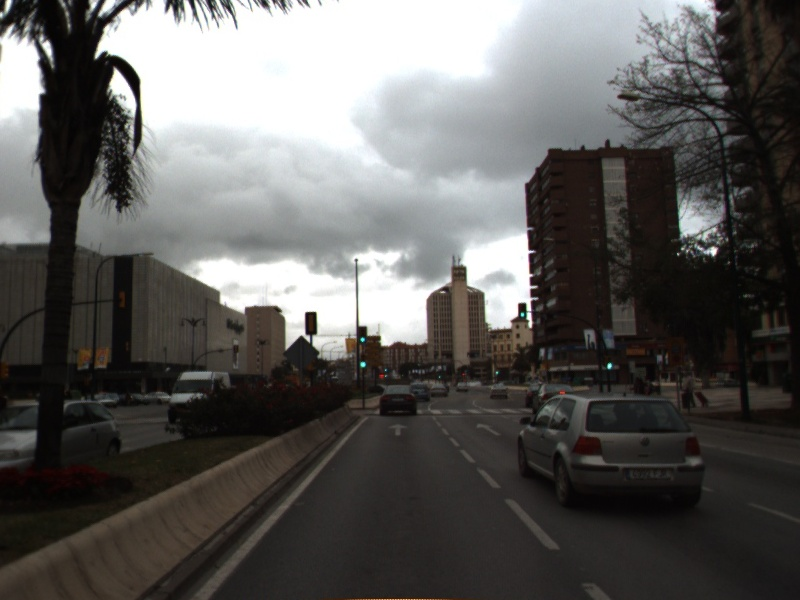STRAIGHT: (474, 421, 504, 437), (386, 421, 410, 437)
